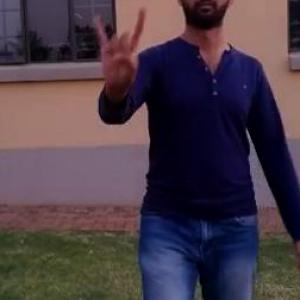takeoff-hand: (87, 0, 156, 84)
